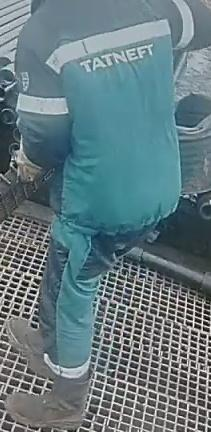gloves: (8, 141, 54, 189)
vest: (13, 0, 194, 234)
